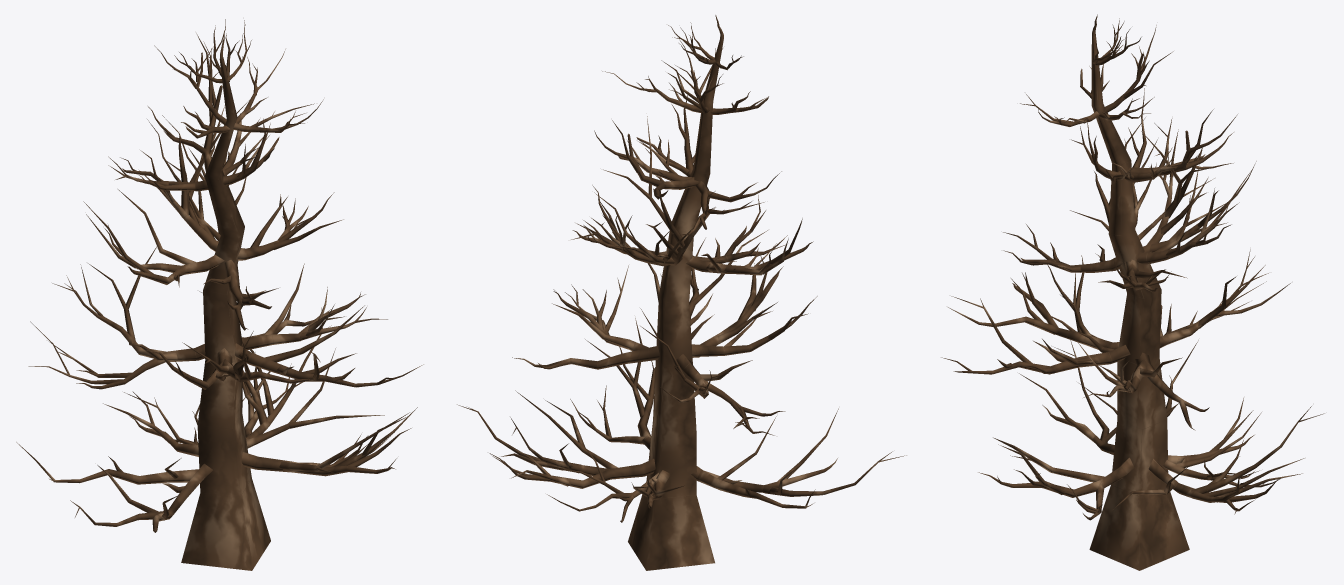
Rendered from Bush.fbx.
3 views of the same model, side by side, from view 1: azimuth 30°, elevation 25°; view 2: azimuth 150°, elevation 25°; view 3: azimuth 270°, elevation 25° (orthographic). The views are drawn at different scales.
Visible parts, largest first — view 1: Bush; view 2: Bush; view 3: Bush.
Part boxes in pixels (box(x1,y1,x2,y2)): Bush: box(16, 19, 423, 570); Bush: box(457, 15, 906, 570); Bush: box(941, 14, 1324, 570).
Bounding box in the file's own units: 47.49 × 70.52 × 48.7.
1 material, 1 textured.
